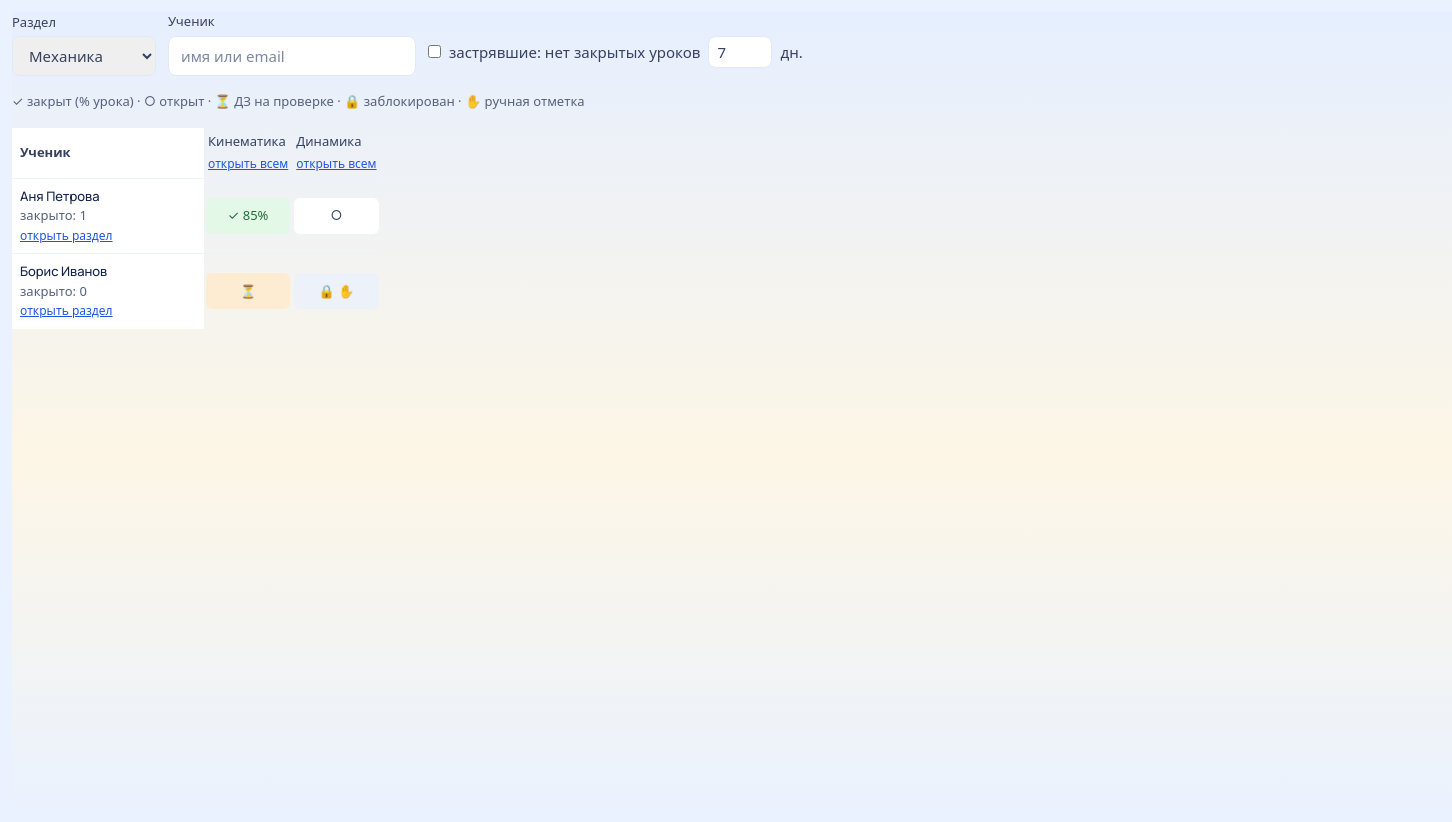
Scenario: «Прохождение» › фильтры: раздел, поиск, «застрявшие»
Select "Молекулярка" in the dropdown with test id "progress-module" at [84, 56], box left=12, top=36, right=156, bottom=76
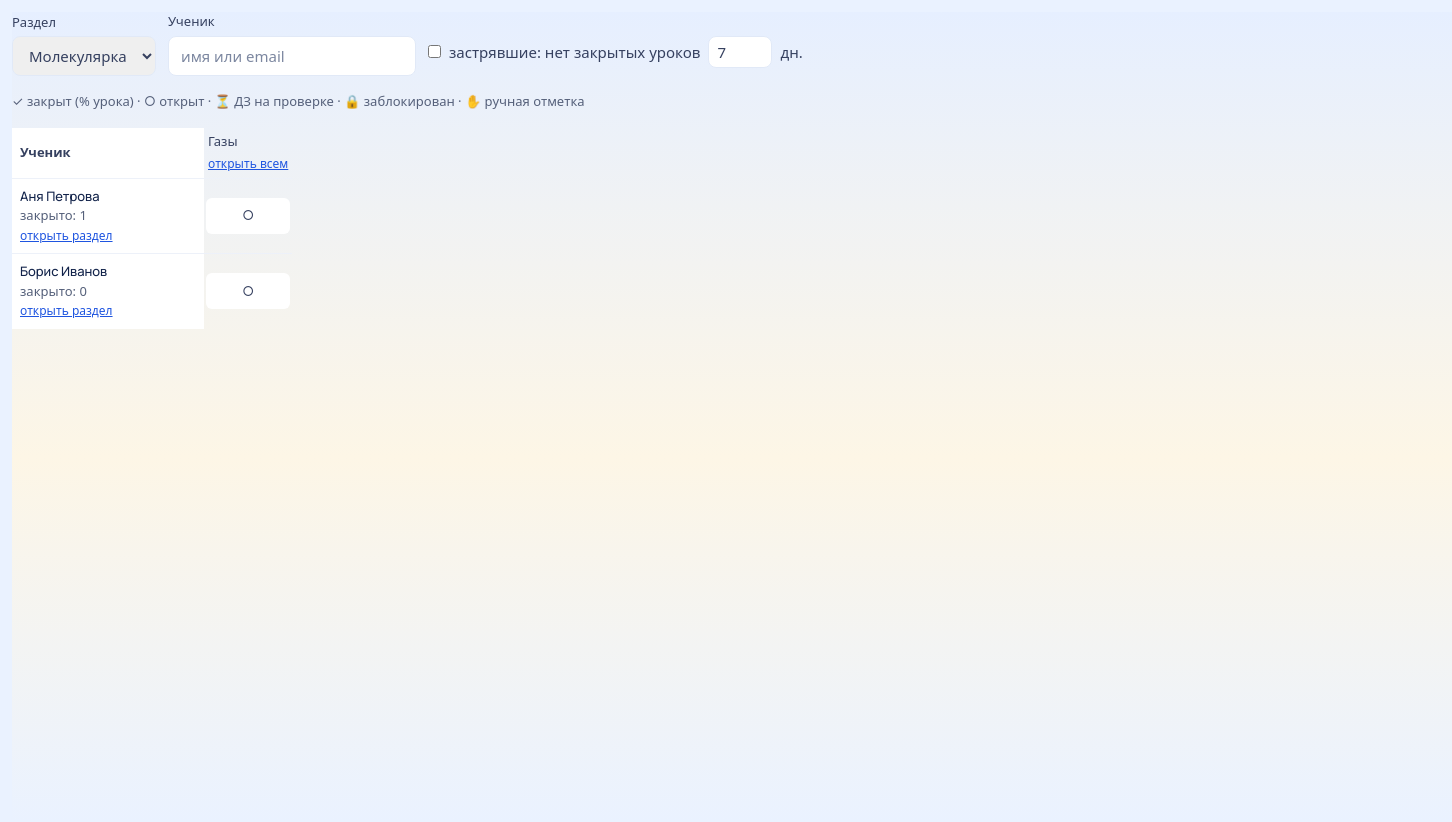
Expected: the number of buttons with test id "progress-cell" is 2, left=206, top=198, right=290, bottom=234; left=206, top=273, right=290, bottom=309
Type "борис" into the field with test id "progress-search".
click(292, 56); type("борис")  # box left=168, top=36, right=416, bottom=76
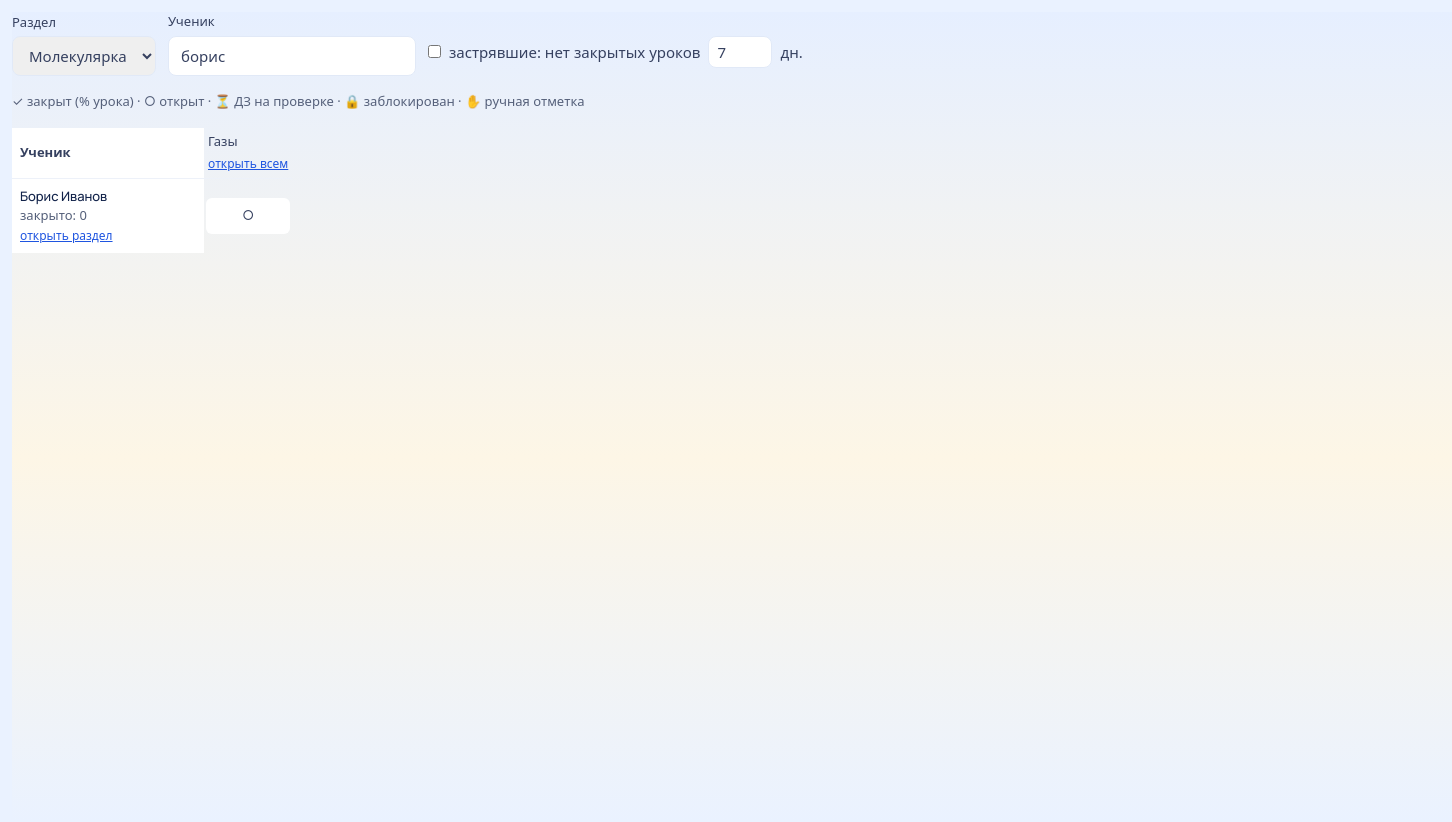
Expected: the number of rows with test id "progress-row" is 1, left=12, top=178, right=292, bottom=253
Clear the field with test id "progress-search" at [292, 56], box left=168, top=36, right=416, bottom=76
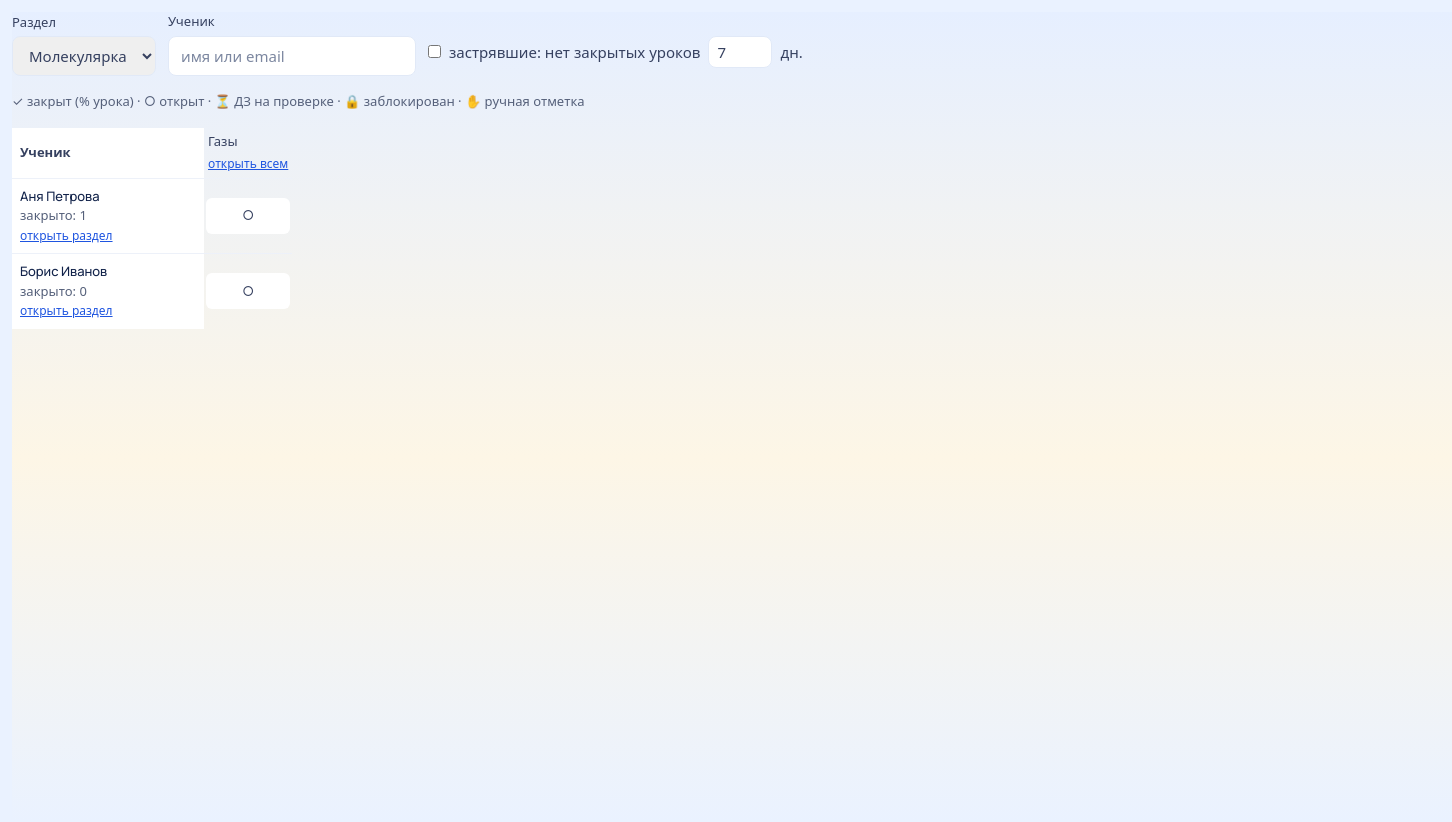
Click the checkbox with test id "progress-stuck".
click(434, 52)  # box left=428, top=45, right=441, bottom=58
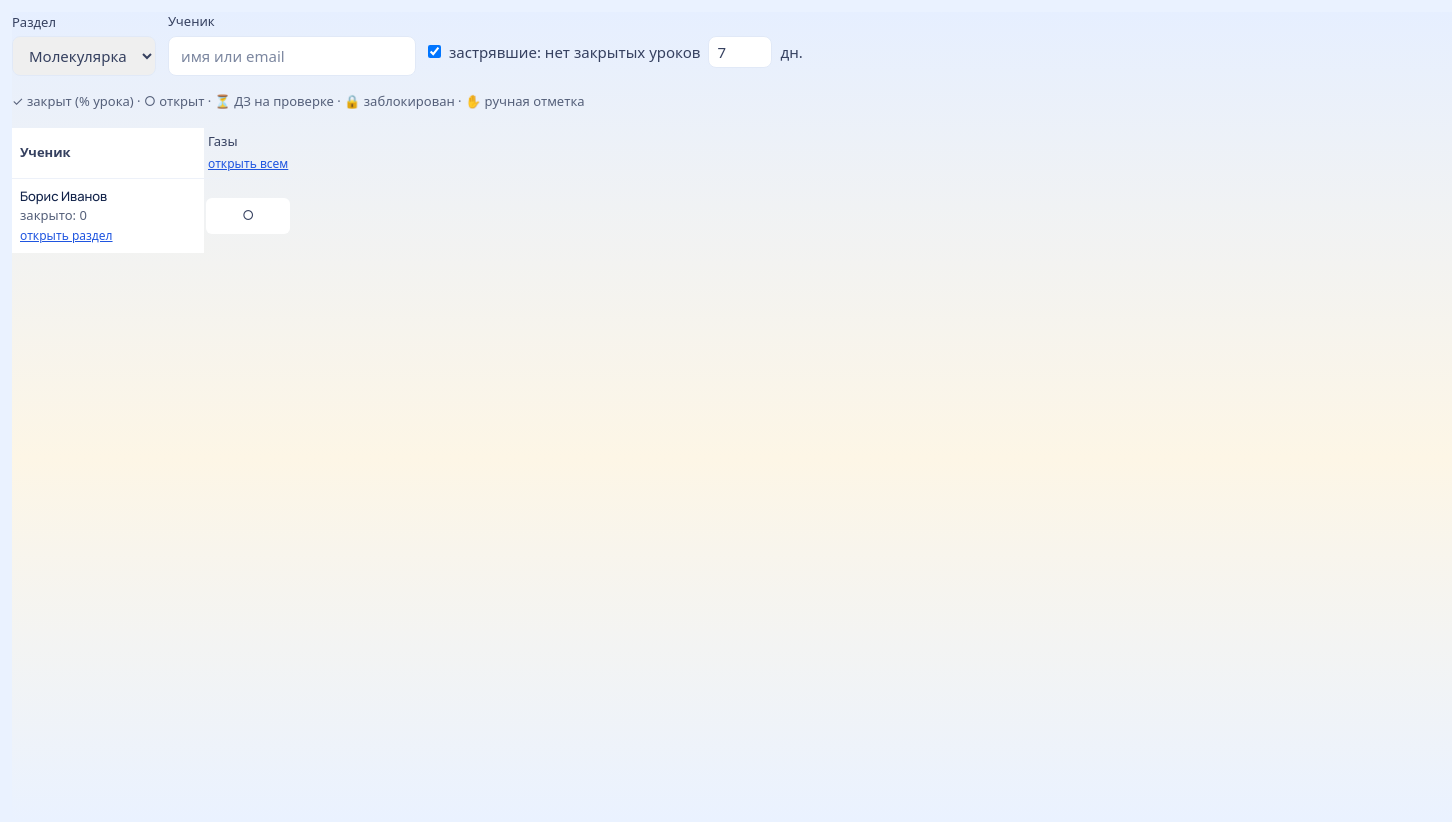
Expected: the row with test id "progress-row" shows "Борис Иванов", left=20, top=186, right=107, bottom=204
Expected: the number of rows with test id "progress-row" is 1, left=12, top=178, right=292, bottom=253
